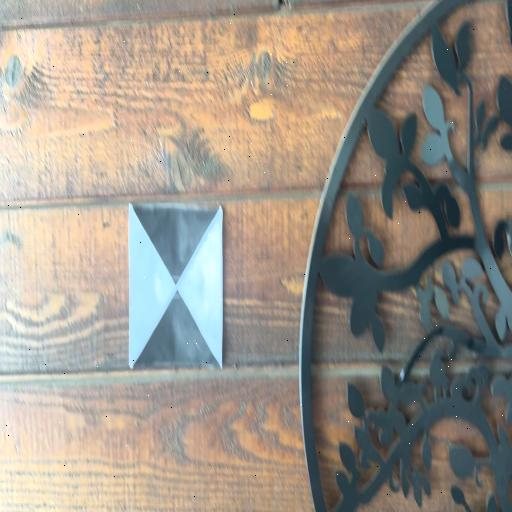target: (128, 202, 224, 368)
